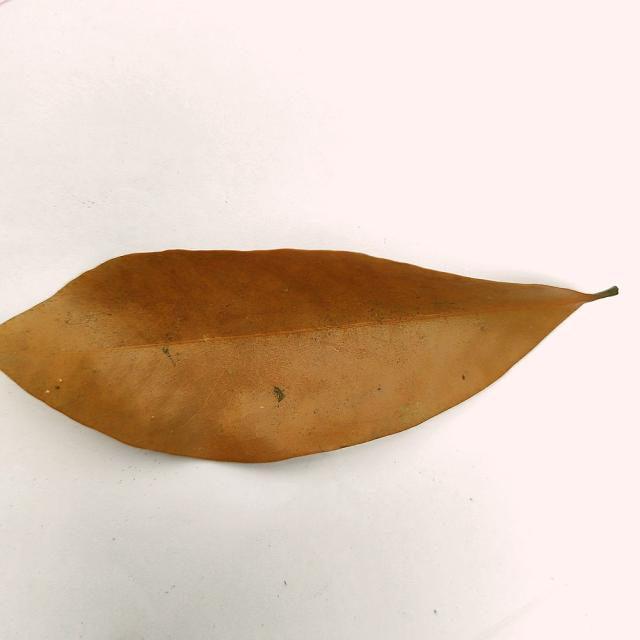Dry_Leaf-Lychee: (0, 249, 618, 466)
